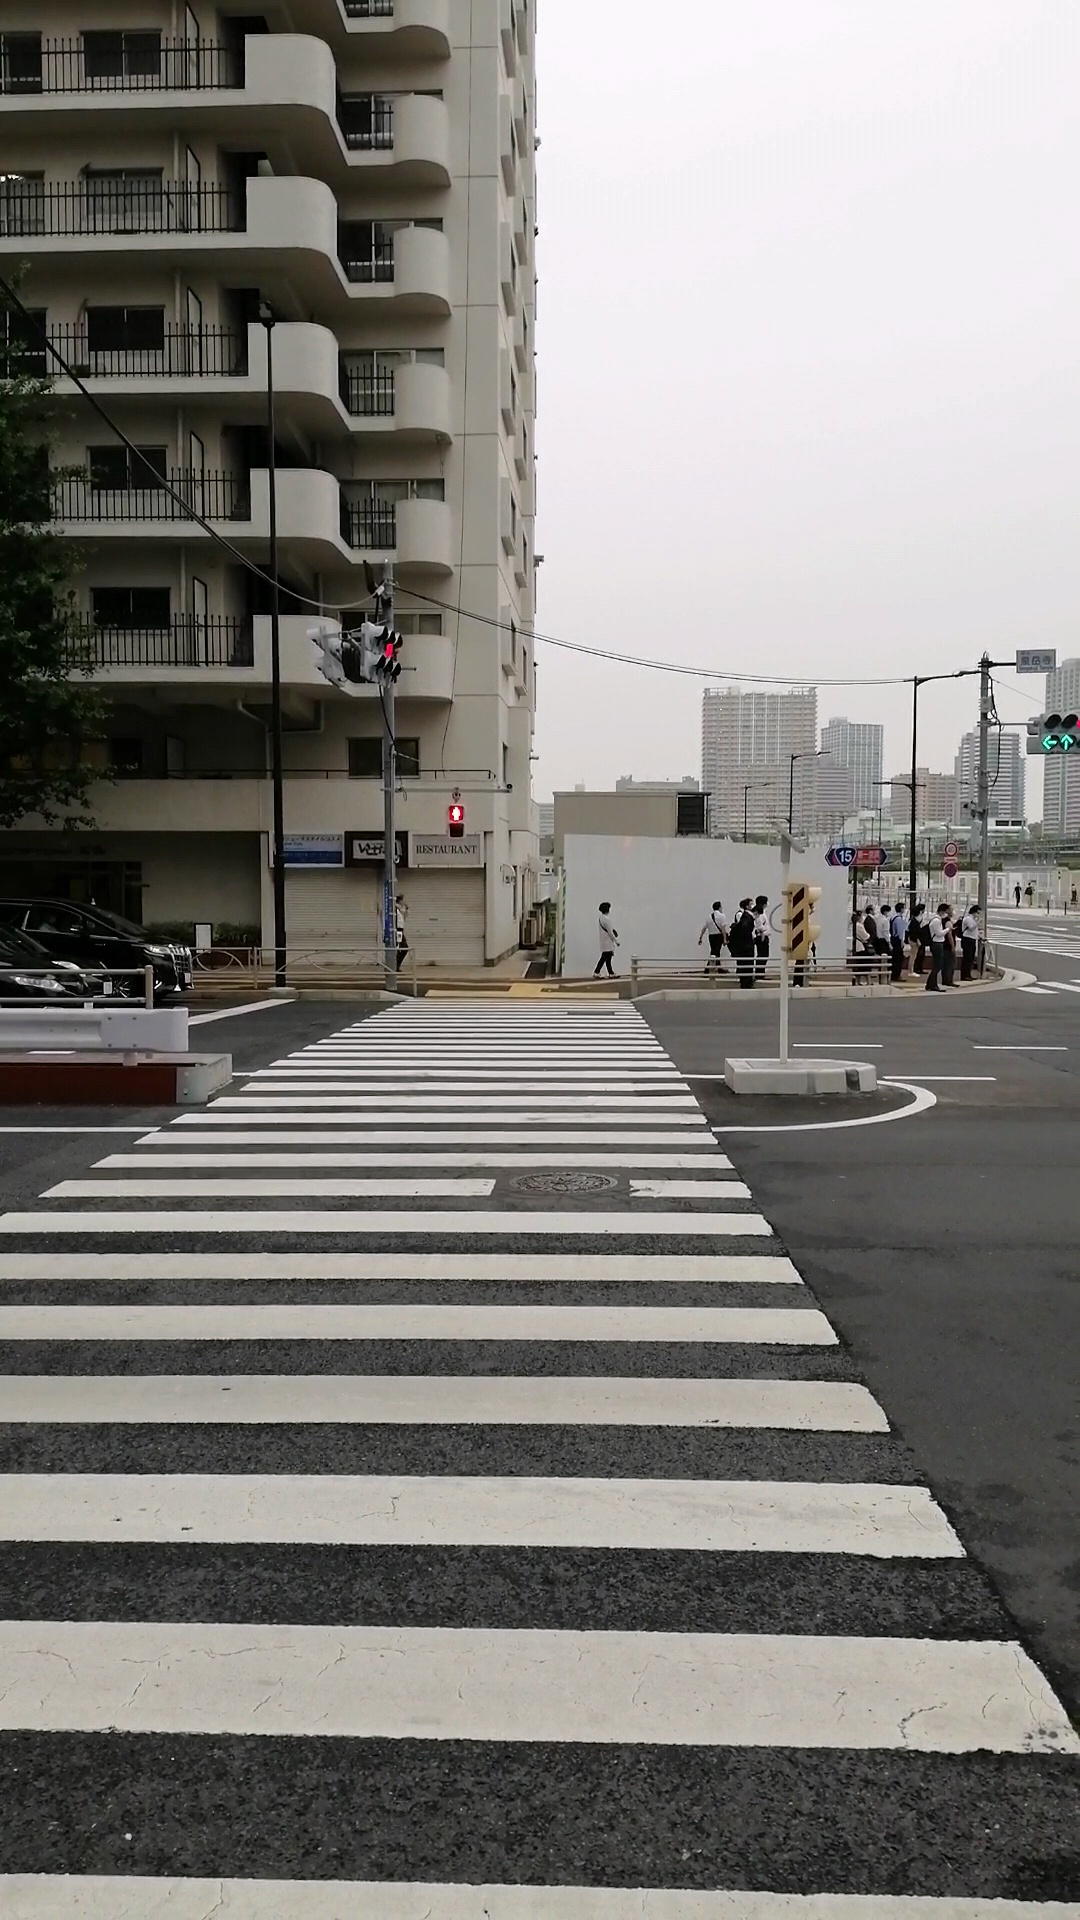red: (446, 803, 465, 840)
